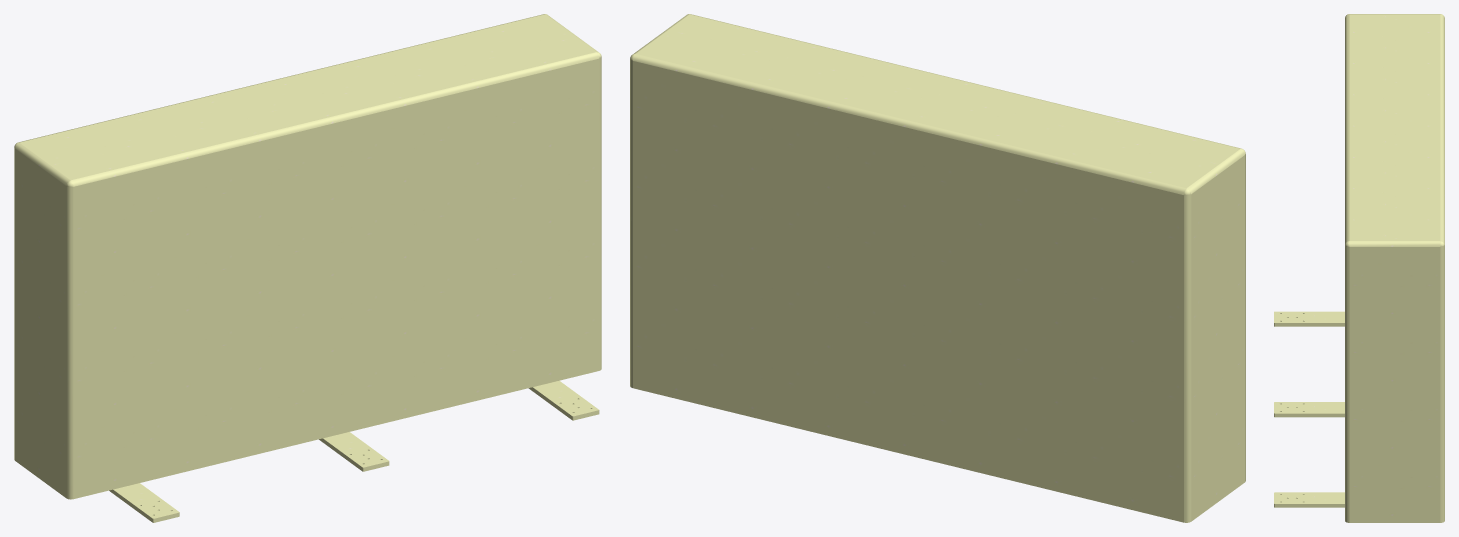
3 views of the same model, side by side, from view 1: azimuth 30°, elevation 25°; view 2: azimuth 150°, elevation 25°; view 3: azimuth 270°, elevation 25° (orthographic). The views are drawn at different scales.
Parts seen in each view (by area): view 1: 8bb03e83-0a72-4bff-bdb8-03e11d64a28a, 473d58c7-bf1e-4444-9e4f-757cc239eb90; view 2: 8bb03e83-0a72-4bff-bdb8-03e11d64a28a; view 3: 8bb03e83-0a72-4bff-bdb8-03e11d64a28a, 473d58c7-bf1e-4444-9e4f-757cc239eb90.
Part boxes in pixels (left/top/right/bottom): 8bb03e83-0a72-4bff-bdb8-03e11d64a28a: left=14, top=14, right=601, bottom=499; 473d58c7-bf1e-4444-9e4f-757cc239eb90: left=109, top=380, right=599, bottom=522; 8bb03e83-0a72-4bff-bdb8-03e11d64a28a: left=630, top=14, right=1245, bottom=522; 8bb03e83-0a72-4bff-bdb8-03e11d64a28a: left=1345, top=14, right=1444, bottom=522; 473d58c7-bf1e-4444-9e4f-757cc239eb90: left=1274, top=311, right=1344, bottom=507.
Size of the model in its own units: 1.2 by 0.6965 by 0.3761.
Materials: 2 (2 with a texture image).
